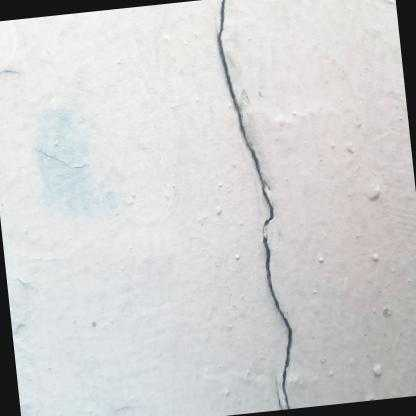crack: (215, 0, 293, 409)
